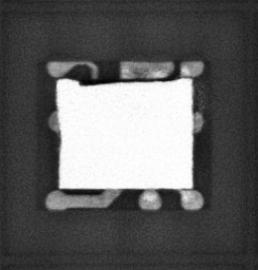DIE_BROKEN: (67, 74, 183, 88)
